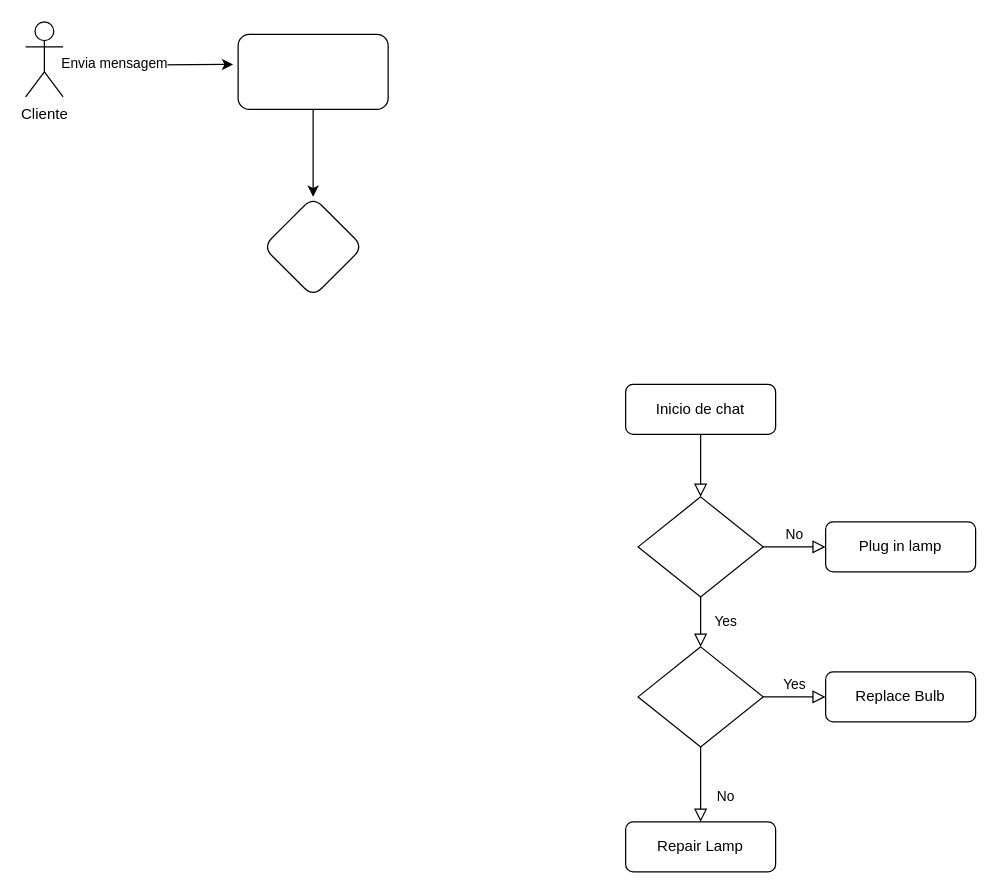
This 998x894 diagram has some shape labels left out. Each missing label, with the centre of its shape:
Bot Whatsapp: the point at 312,71
Bulb burned out?: the point at 700,696
Lamp plugged in?: the point at 700,546
